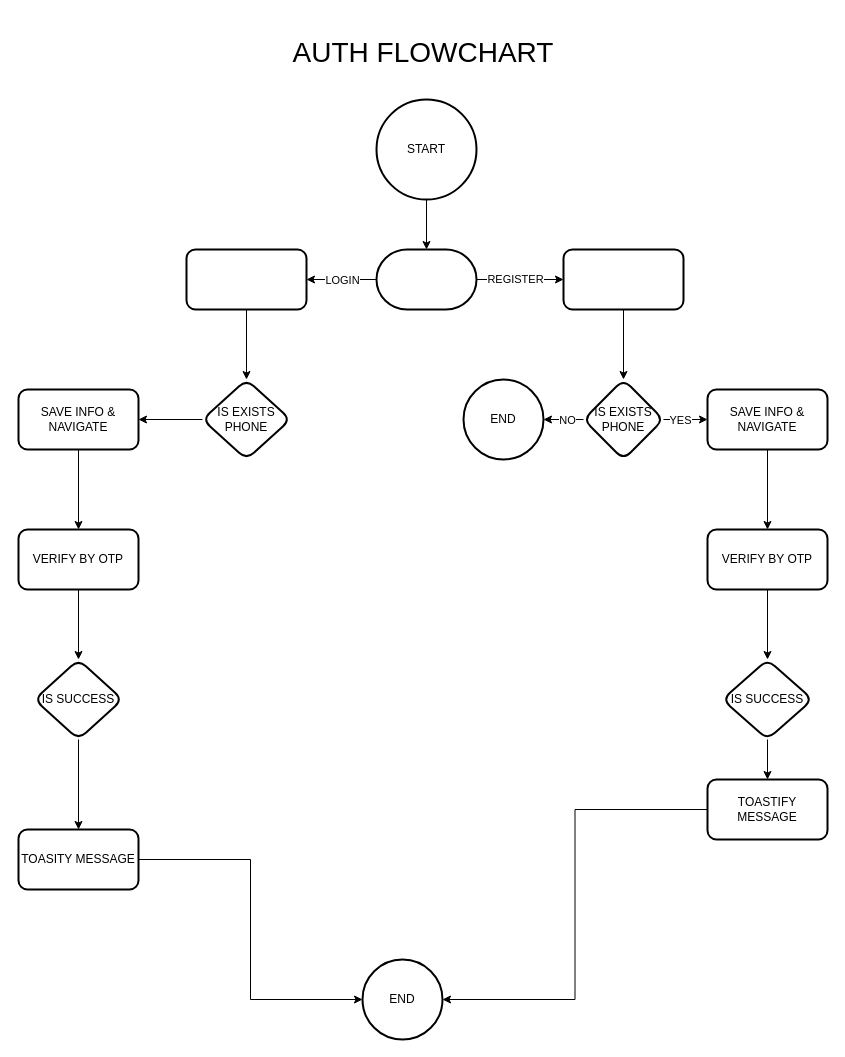
This 845x1057 diagram has some shape labels left out. Here are the shapes that lost their labels. From the top down, the centre of each, then its label:
At point 246,279: "LOGIN - REQ".
At point 426,279: "REQ BY SCOPE".
At point 623,279: "SIGNUP - REQ".
